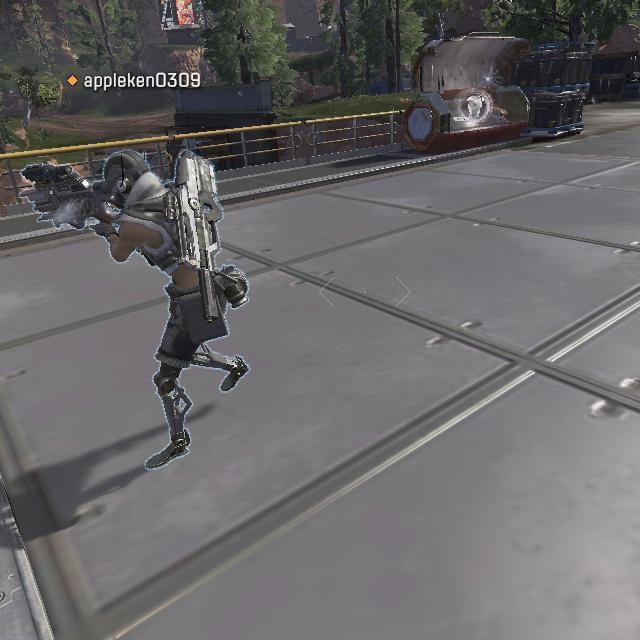avatar: (101, 145, 253, 474)
